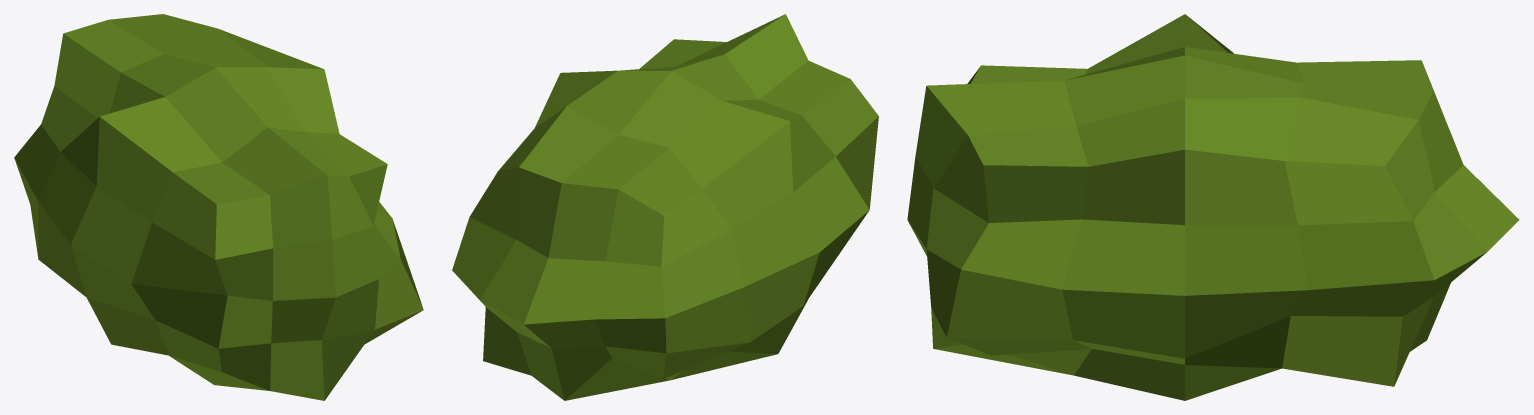
File: bush_1_engine.fbx
3 renders of one model, left to right at view 1: azimuth 30°, elevation 25°; view 2: azimuth 150°, elevation 25°; view 3: azimuth 270°, elevation 25°, orthographic. The views are drawn at different scales.
Parts seen in each view (by area): view 1: Cube; view 2: Cube; view 3: Cube.
Part boxes in pixels (x1,y1,x2,y2): Cube: [14, 14, 423, 400]; Cube: [452, 14, 878, 400]; Cube: [907, 14, 1519, 400].
Bounding box in the file's own units: 29430 × 29329 × 48258.
